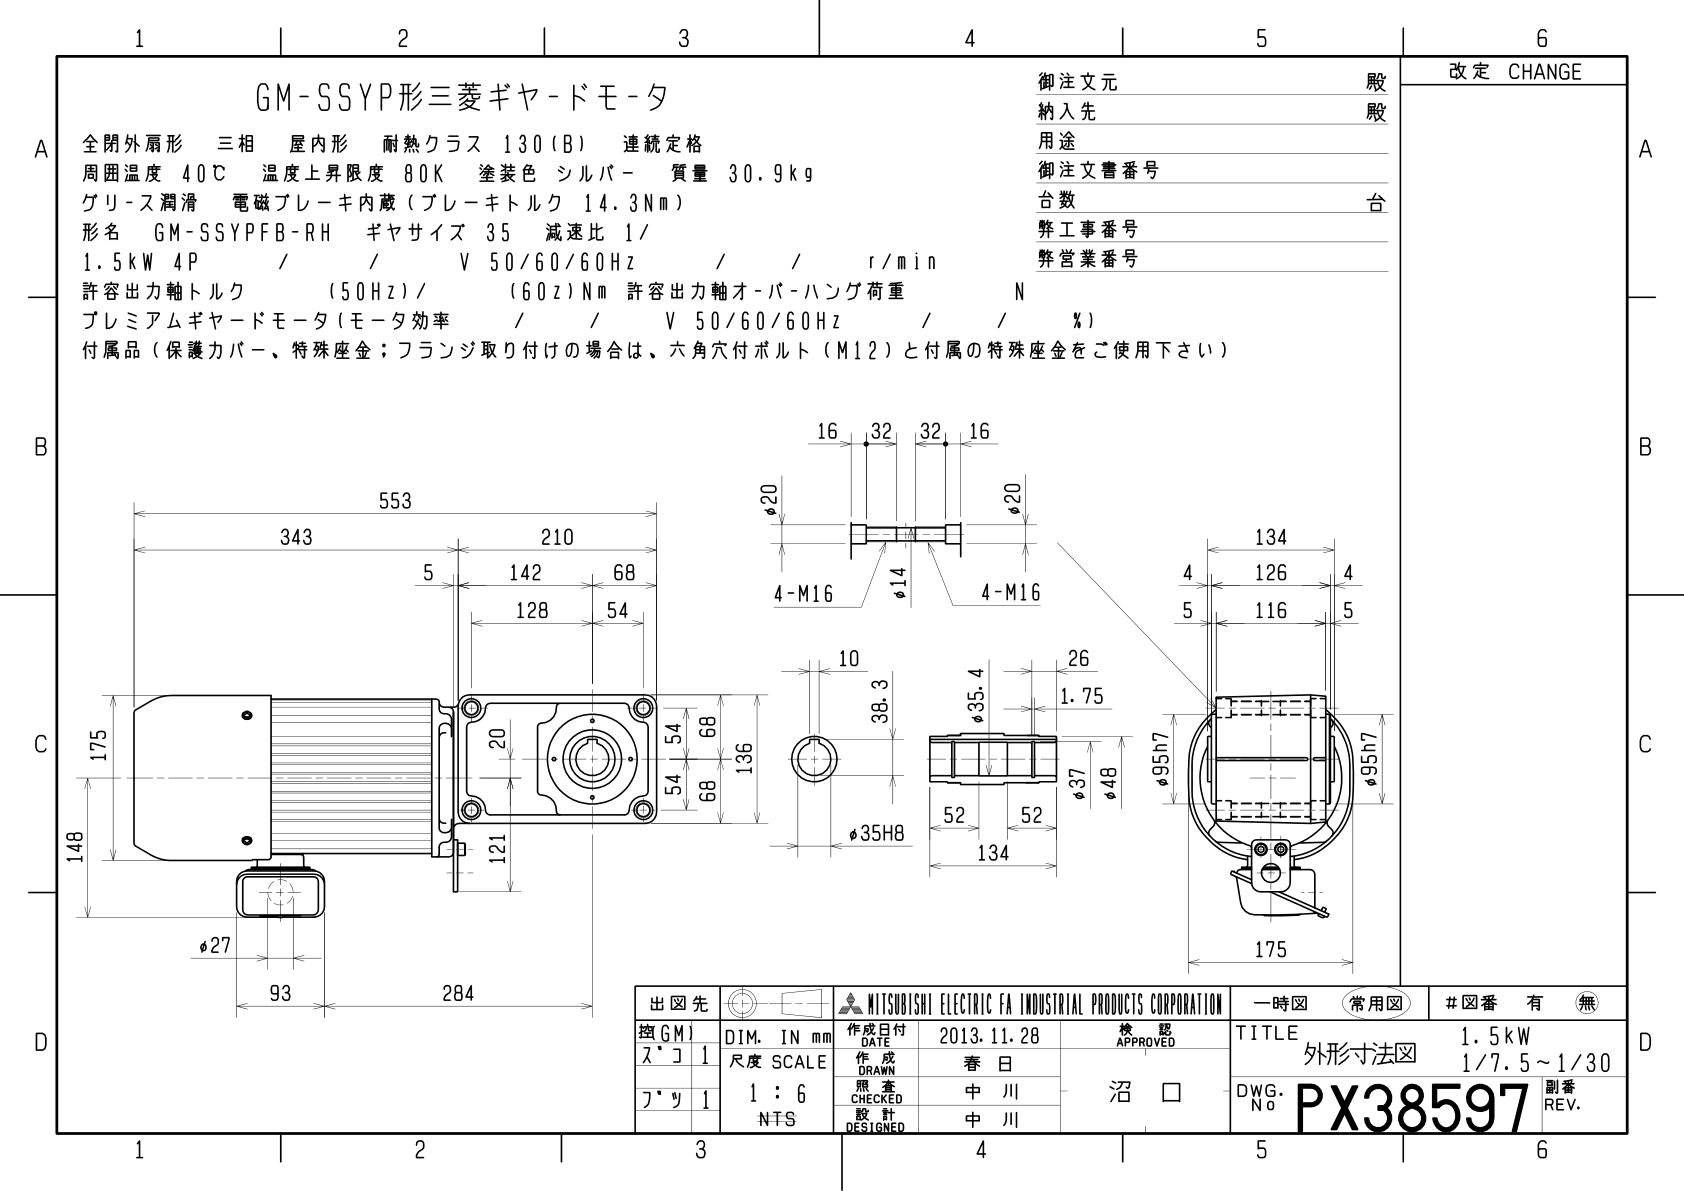GM_SSYP_屋内_三相: (1, 1, 1678, 1179)
